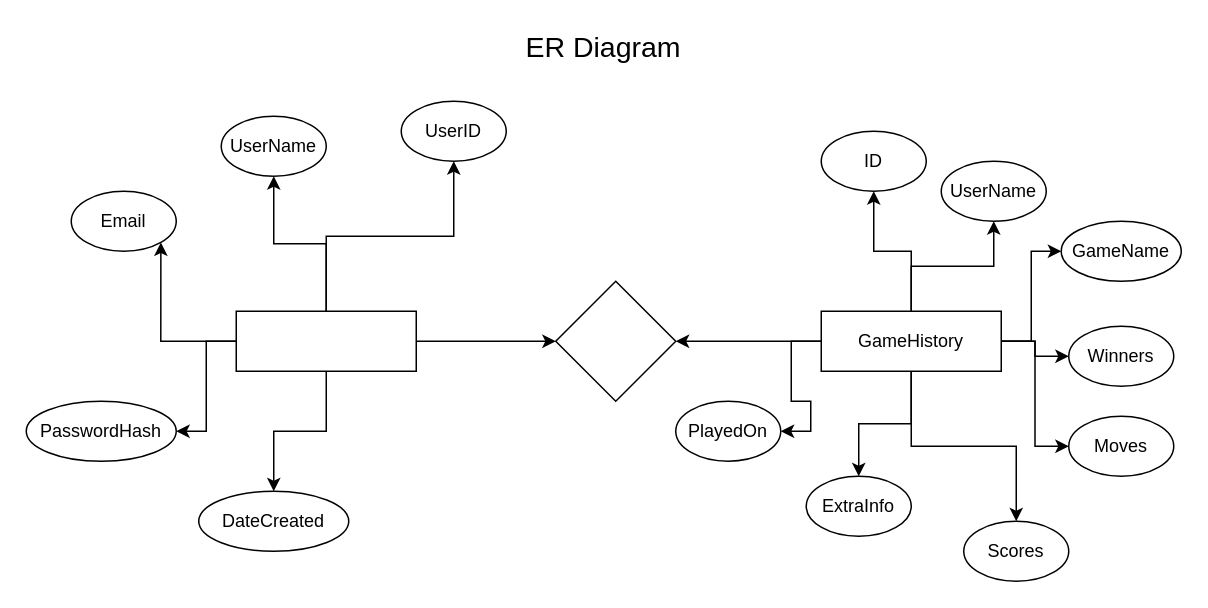
Image size: 1208x608. Some labels were removed from this diagram. The shapes that lost their labels are listed below. From the top down, each one's box as (x1, y1, x2, y2) in pixels, then its label:
(235, 310, 416, 371): Users
(554, 280, 676, 401): GameHub
